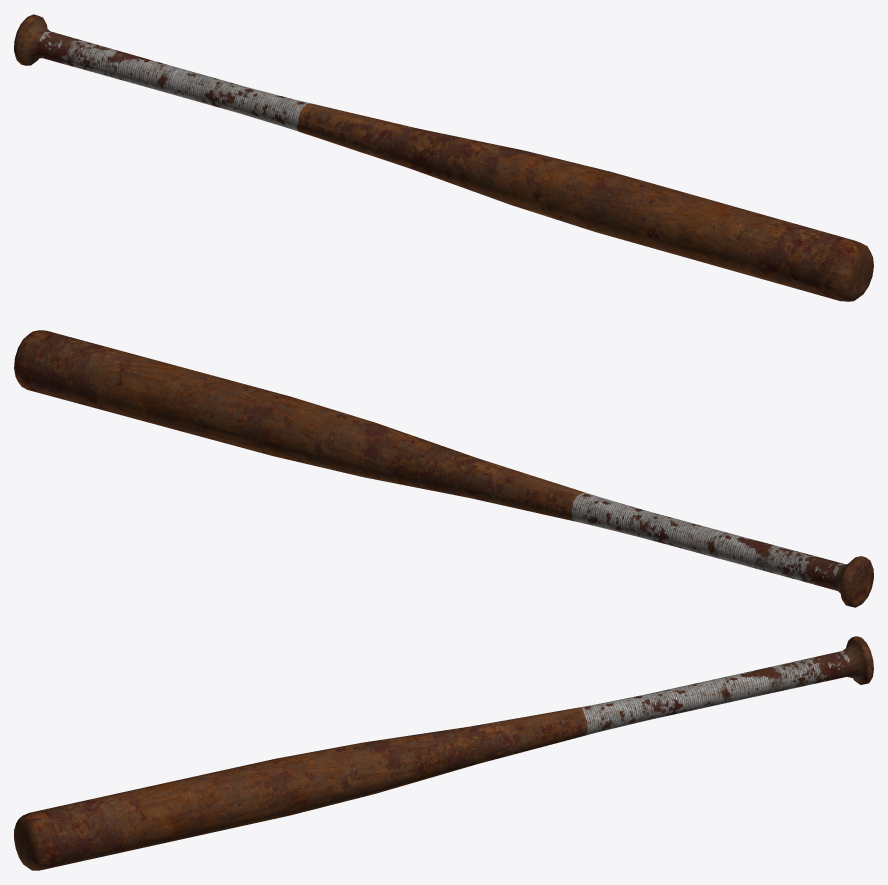
The model's file is Anim_idle_bate_objetos.0015.obj.
3 renders of one model, top to bottom at view 1: azimuth 30°, elevation 25°; view 2: azimuth 210°, elevation 25°; view 3: azimuth 270°, elevation 25°, orthographic. The views are drawn at different scales.
Parts seen in each view (by area): view 1: Bate1; view 2: Bate1; view 3: Bate1.
Part boxes in pixels (x1=…): Bate1: x1=14, y1=14, x2=873, y2=301; Bate1: x1=14, y1=330, x2=873, y2=607; Bate1: x1=14, y1=636, x2=873, y2=870.
Size of the model in its own units: 2.65 by 0.3423 by 4.87.
